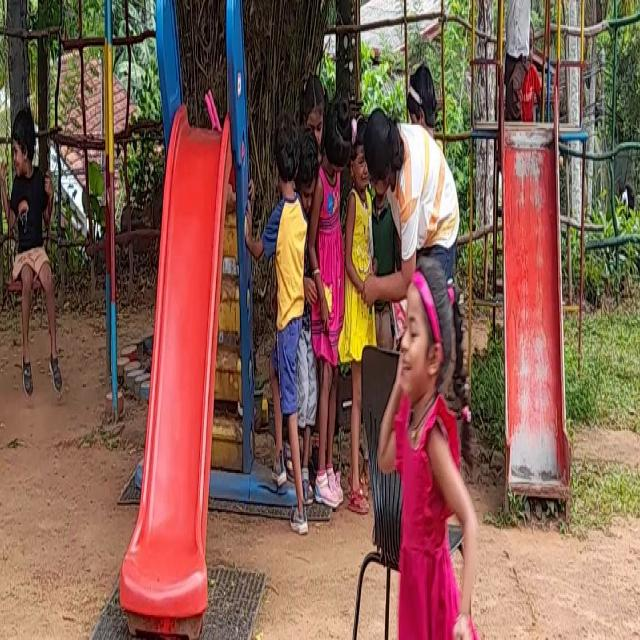child: (386, 281, 470, 640), (312, 102, 350, 485), (265, 108, 300, 501), (12, 95, 50, 395), (505, 0, 543, 106)
